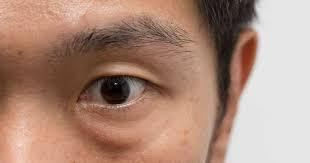Eyebags: (81, 121, 144, 144)
